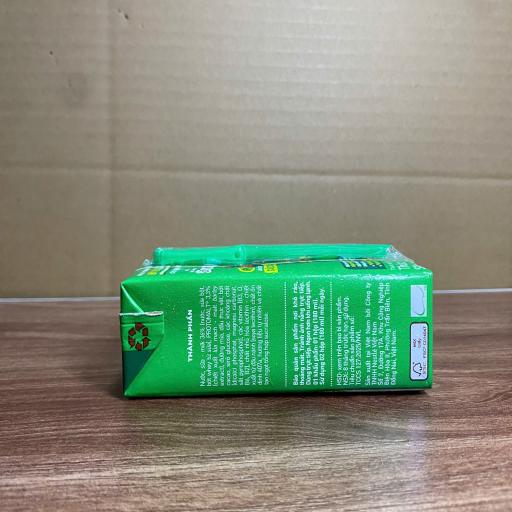milo: (121, 242, 434, 394)
